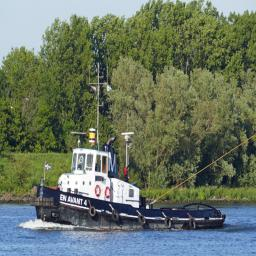tugboat: (30, 62, 228, 235)
